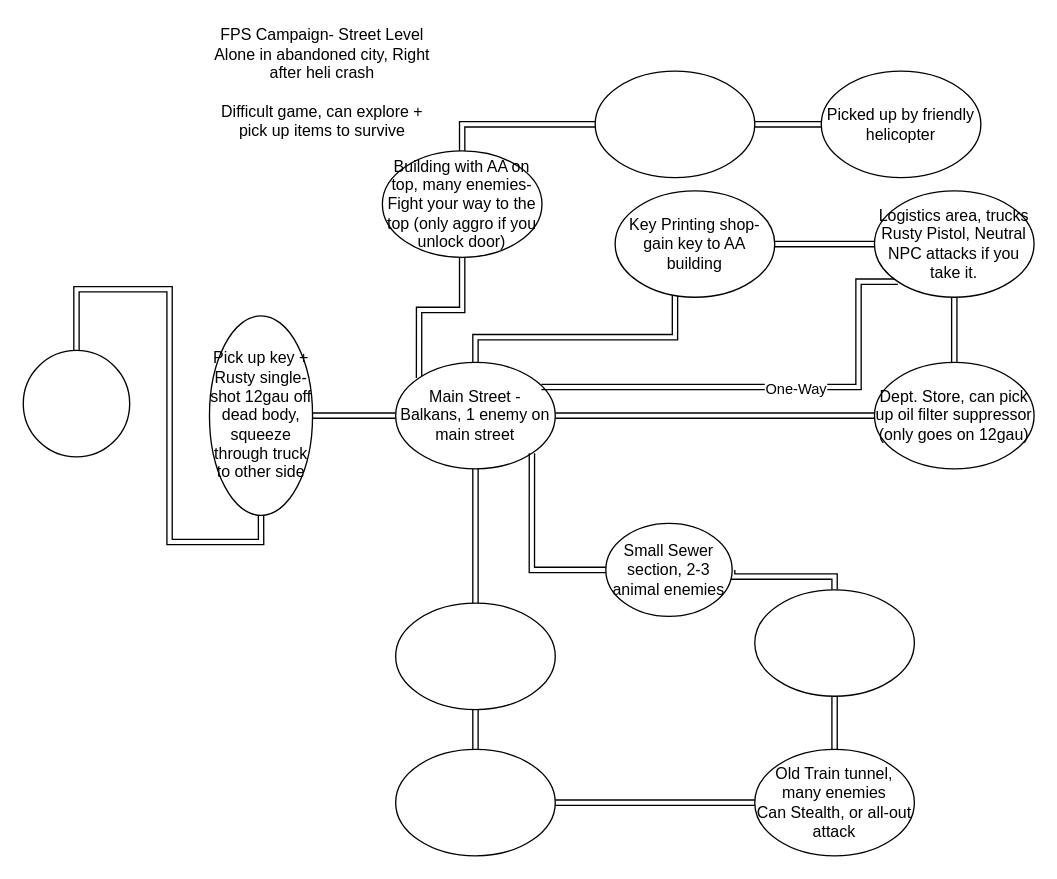
Image size: 1057x879. Some labels were removed from this diagram. Here are the shapes that lost their labels. From the top down, the centre of each, then its label:
At [674,124]: "Enemy Anti-Air- need C4 from Terrorist HQ".
At [76,403]: "Start- Small Alley, blocked off by truck".
At [474,656]: "Terrorist HQ set up as money laundering scheme, 3 enemies".
At [833,642]: "Power Puzzle, pick up Enemy C4".
At [474,802]: "Solve Puzzle to access underground".
